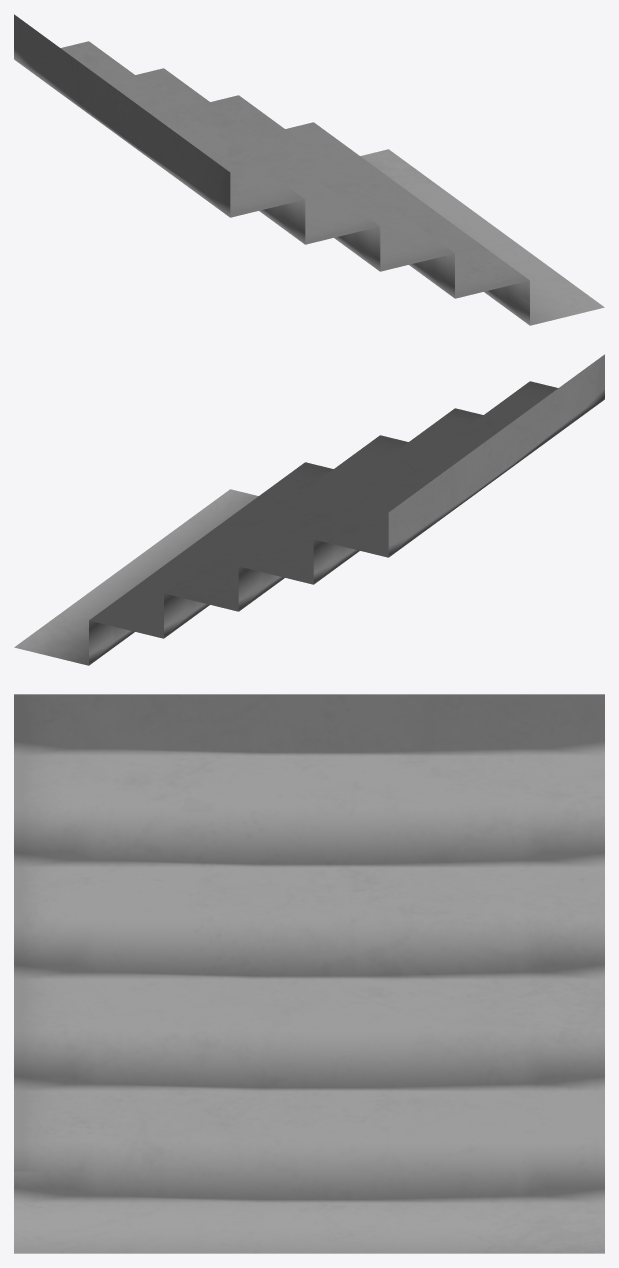
File: Floor-StairsLow.fbx
The picture shows the model from 3 angles, top to bottom: view 1: azimuth 30°, elevation 25°; view 2: azimuth 150°, elevation 25°; view 3: azimuth 270°, elevation 25°; orthographic projection. The views are drawn at different scales.
Parts seen in each view (by area): view 1: StairsLow; view 2: StairsLow; view 3: StairsLow.
Boxes of the visible parts, box(x1,y1,x2,y2) form: StairsLow: box(14, 14, 604, 325); StairsLow: box(14, 354, 604, 665); StairsLow: box(14, 694, 604, 1253).
Size of the model in its own units: 78.74 by 45.47 by 78.74.
Materials: 1 (1 with a texture image).
